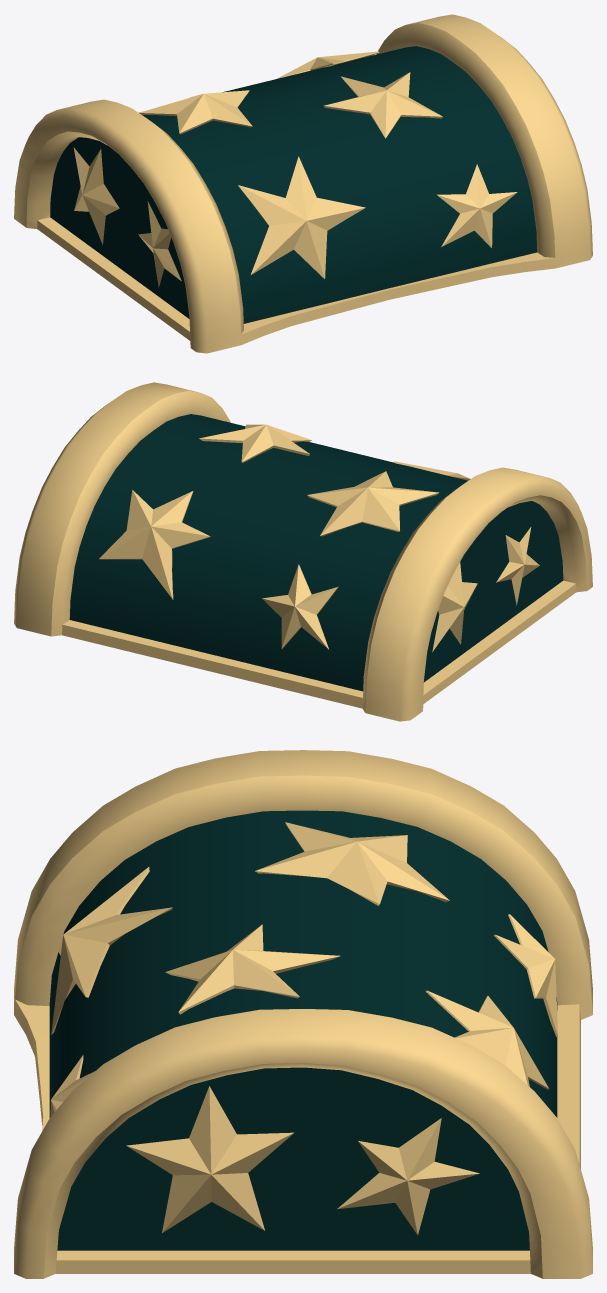
File: magic_chest_lid.glb
3 views of the same model, one above another, from view 1: azimuth 30°, elevation 25°; view 2: azimuth 150°, elevation 25°; view 3: azimuth 270°, elevation 25° (orthographic). The views are drawn at different scales.
Visible parts, largest first — view 1: arch.001; view 2: arch.001; view 3: arch.001.
Boxes of the visible parts, x1=… form: arch.001: x1=14, y1=14, x2=592, y2=353; arch.001: x1=14, y1=382, x2=592, y2=721; arch.001: x1=14, y1=750, x2=592, y2=1278.
Size of the model in its own units: 1.15 by 0.4359 by 0.9551.
